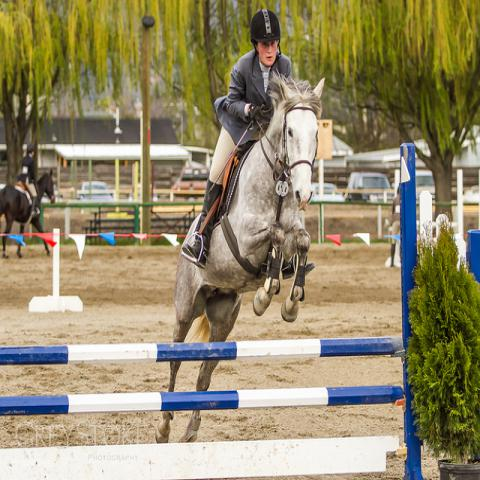car: (346, 169, 396, 204), (312, 182, 345, 203), (415, 169, 437, 198), (128, 183, 158, 200), (464, 185, 478, 201), (82, 183, 106, 190)
truck: (175, 167, 210, 190)
